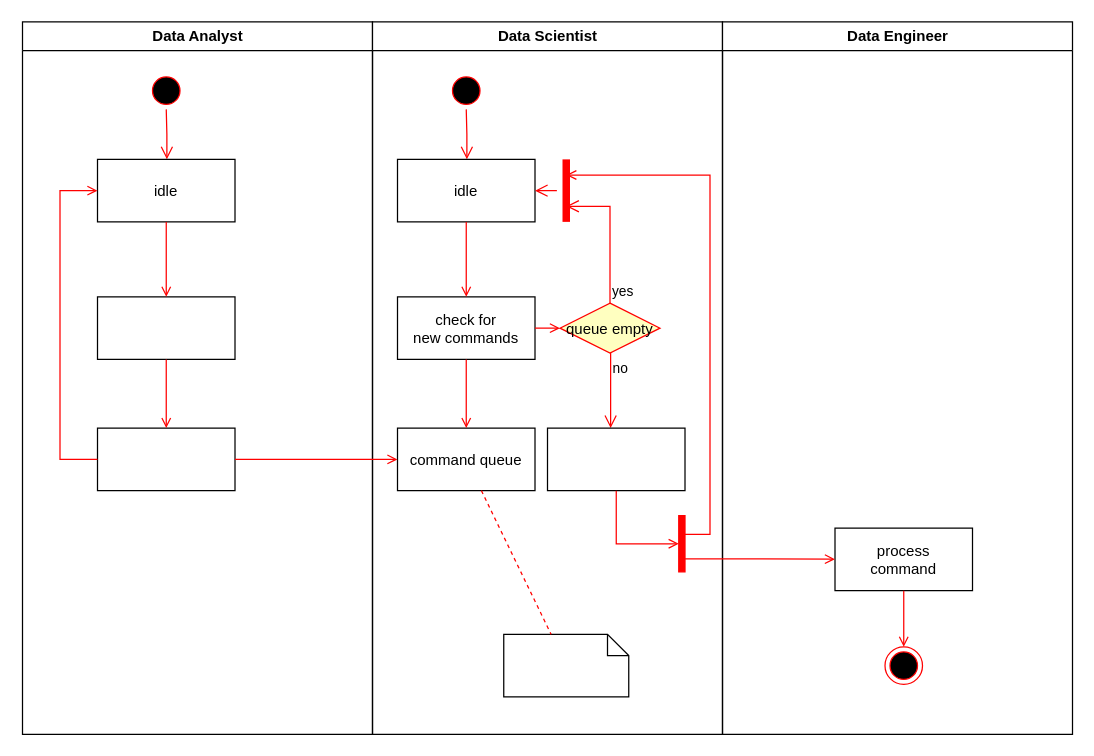
Image size: 1094x756. Some labels were removed from this diagram. Here are the shapes that lost their labels. From the top down, the centre of each, then its label:
point 165,327: user action
point 165,459: post command
point 615,459: dispatch command worker thread
point 565,665: critical section
